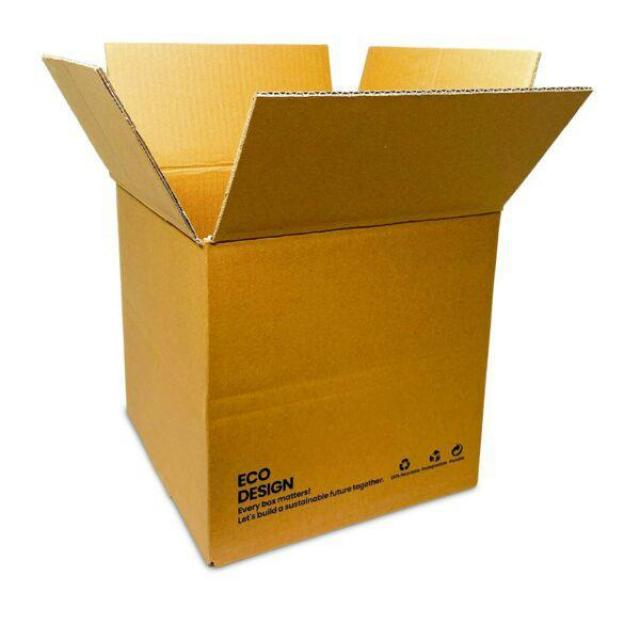Garbage: (44, 39, 593, 569)
